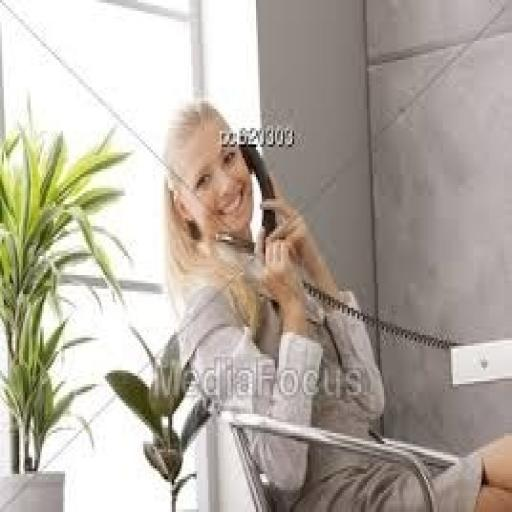calling: (157, 96, 510, 510)
